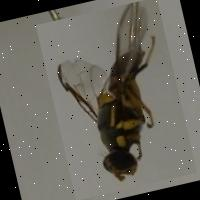Oriental-fruit-fly: (34, 0, 195, 199)
